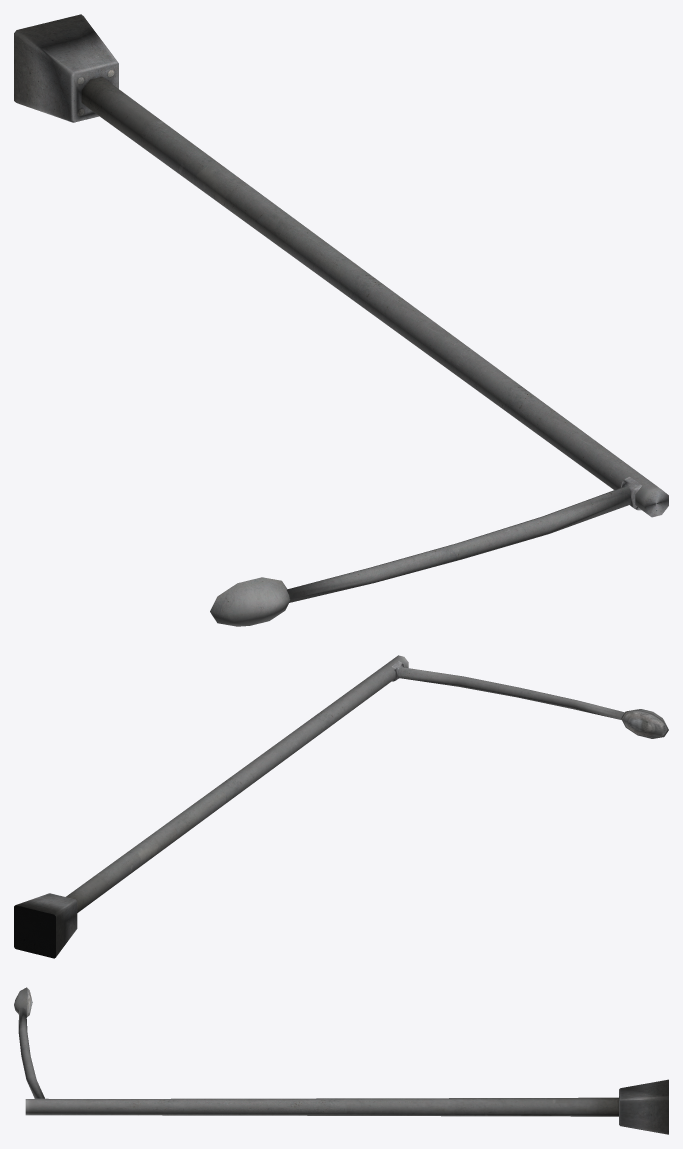
The model's file is lightpole.fbx.
3 views of the same model, one above another, from view 1: azimuth 30°, elevation 25°; view 2: azimuth 150°, elevation 25°; view 3: azimuth 270°, elevation 25° (orthographic). The views are drawn at different scales.
Parts seen in each view (by area): view 1: lightpole; view 2: lightpole; view 3: lightpole.
Boxes of the visible parts, x1,y1,x2,y2 form: lightpole: [14, 14, 668, 626]; lightpole: [14, 655, 668, 958]; lightpole: [14, 987, 668, 1134].
Bounding box in the file's own units: 3.56 × 0.517 × 7.95.
